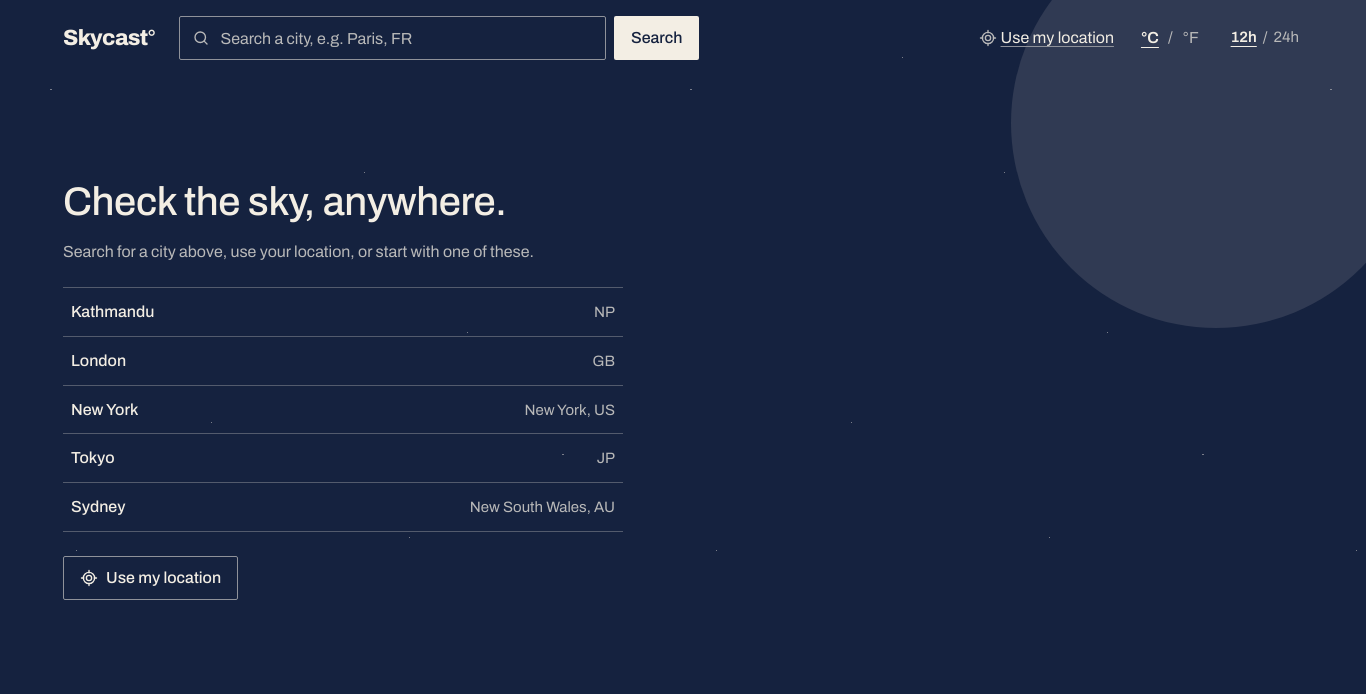
App › keeps the current weather on screen when a later search fails
The width and height of the screenshot is (1366, 694).
Type "London" into the dropdown named "search for a city".
click(406, 38); type("London")  # box [218,17,593,59]
Then press Enter
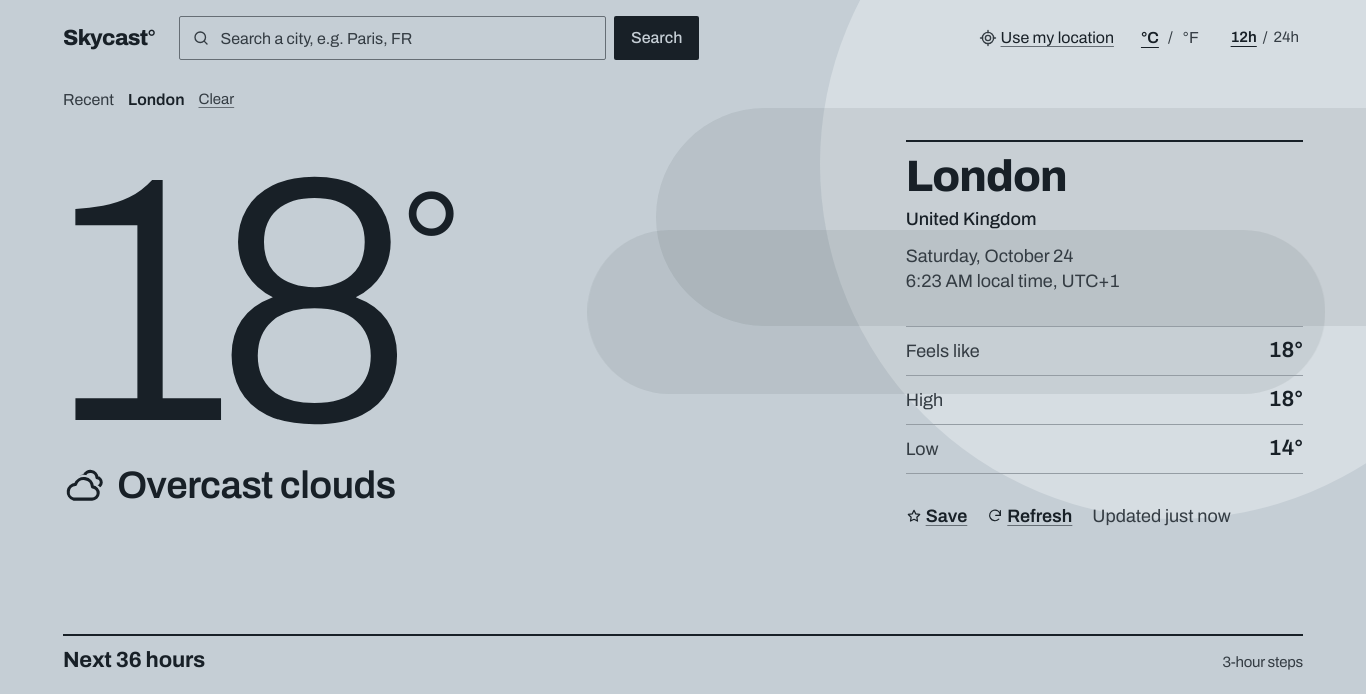
Result: the heading "London" is shown at [906,152,1067,200]
Type "Atlantisxyz" into the dropdown named "search for a city".
click(406, 38); type("Atlantisxyz")  # box [218,17,593,59]
Then press Enter
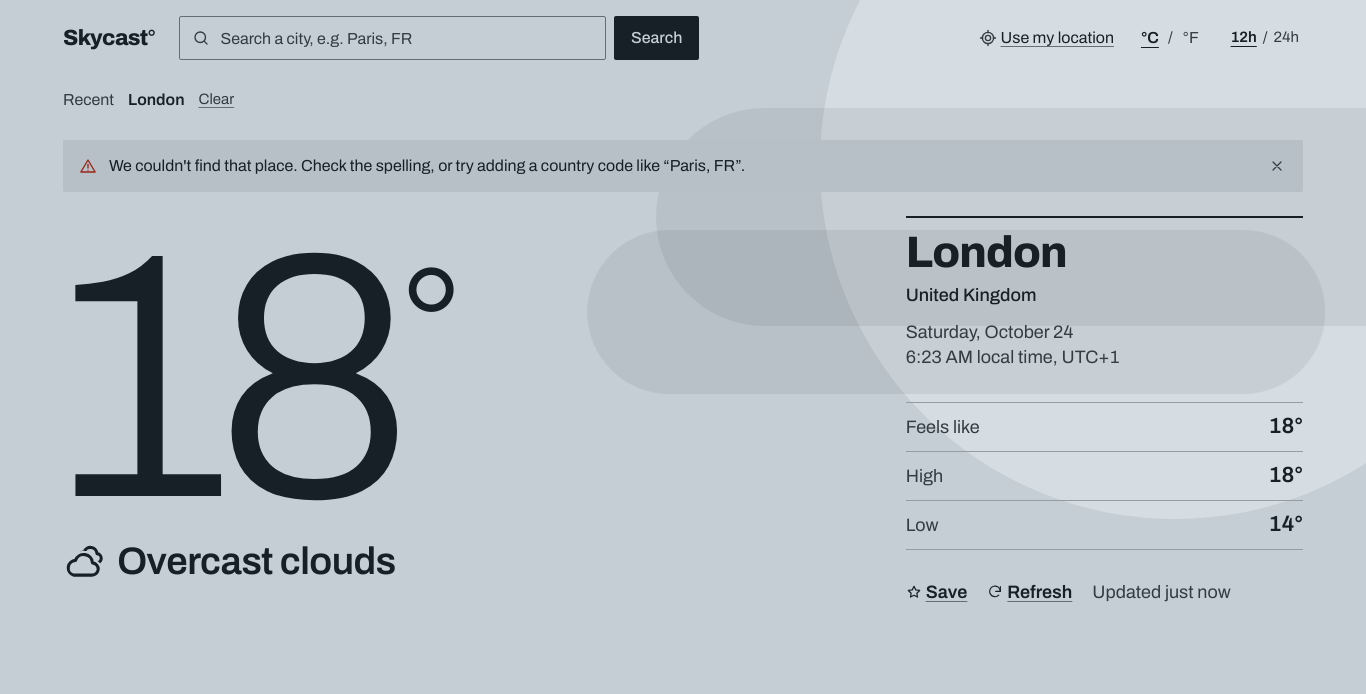
Result: the heading "London" is shown at [906,228,1067,276]
Result: the message shows "couldn't find that place" at [109,157,745,174]
